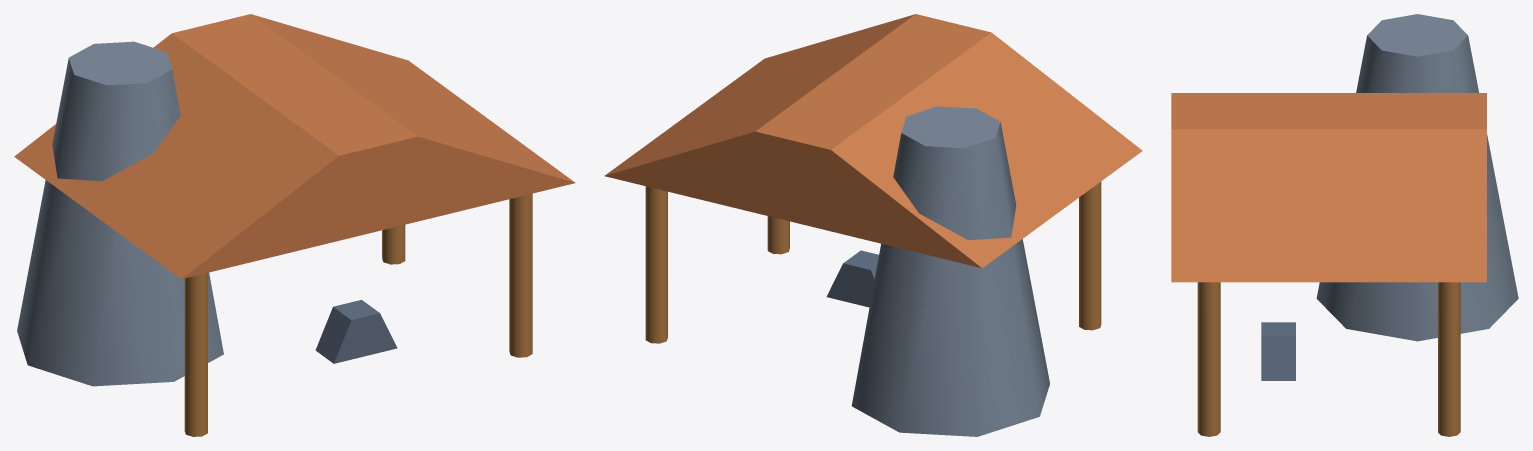
Rendered from shop_smithy.glb.
3 renders of one model, left to right at view 1: azimuth 30°, elevation 25°; view 2: azimuth 150°, elevation 25°; view 3: azimuth 270°, elevation 25°, orthographic. The views are drawn at different scales.
Parts seen in each view (by area): view 1: smithy_awning, smithy_stone, smithy_timber, smithy_anvil; view 2: smithy_awning, smithy_stone, smithy_timber, smithy_anvil; view 3: smithy_awning, smithy_stone, smithy_timber, smithy_anvil.
Part boxes in pixels (x1,y1,x2,y2): smithy_awning: [14, 14, 575, 279]; smithy_stone: [17, 41, 223, 386]; smithy_timber: [184, 193, 532, 436]; smithy_anvil: [315, 299, 397, 363]; smithy_awning: [604, 14, 1142, 268]; smithy_stone: [851, 106, 1049, 436]; smithy_timber: [645, 181, 1101, 343]; smithy_anvil: [826, 250, 878, 307]; smithy_awning: [1171, 93, 1486, 282]; smithy_stone: [1316, 14, 1518, 341]; smithy_timber: [1197, 282, 1460, 436]; smithy_anvil: [1261, 322, 1295, 380].
Bounding box in the file's own units: 7.2 × 4.6 × 5.5.
